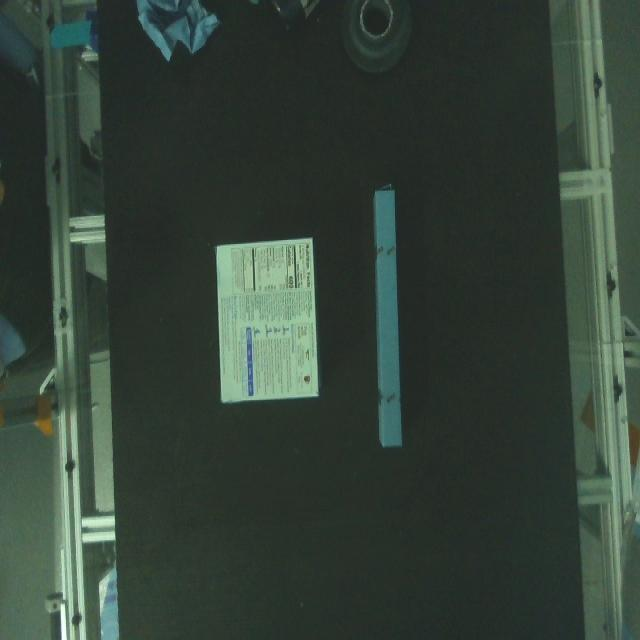non-paper: (332, 0, 414, 80), (264, 0, 331, 39)
paper: (212, 234, 326, 410), (212, 231, 324, 410), (361, 185, 411, 449), (132, 0, 227, 76)
